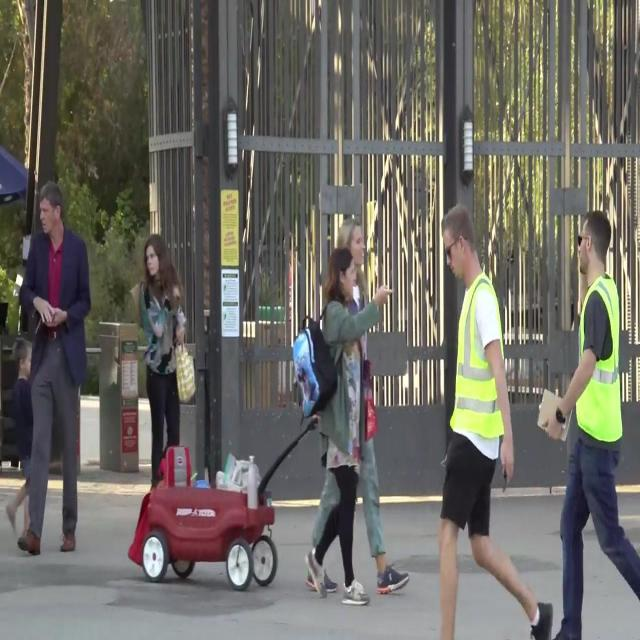Vest: (449, 273, 504, 434), (575, 270, 625, 442)
